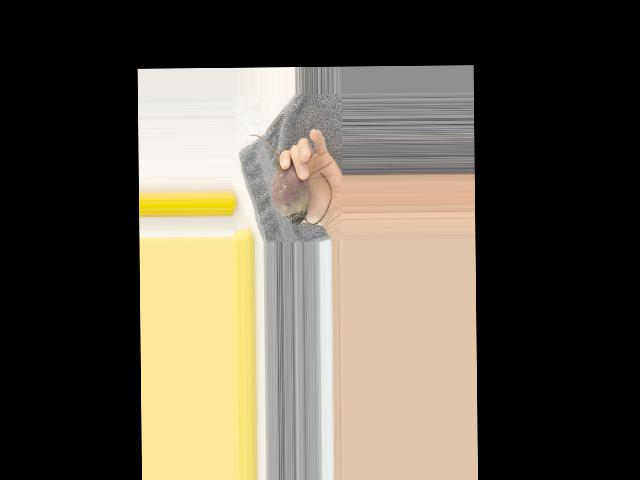beet: (249, 133, 332, 224)
